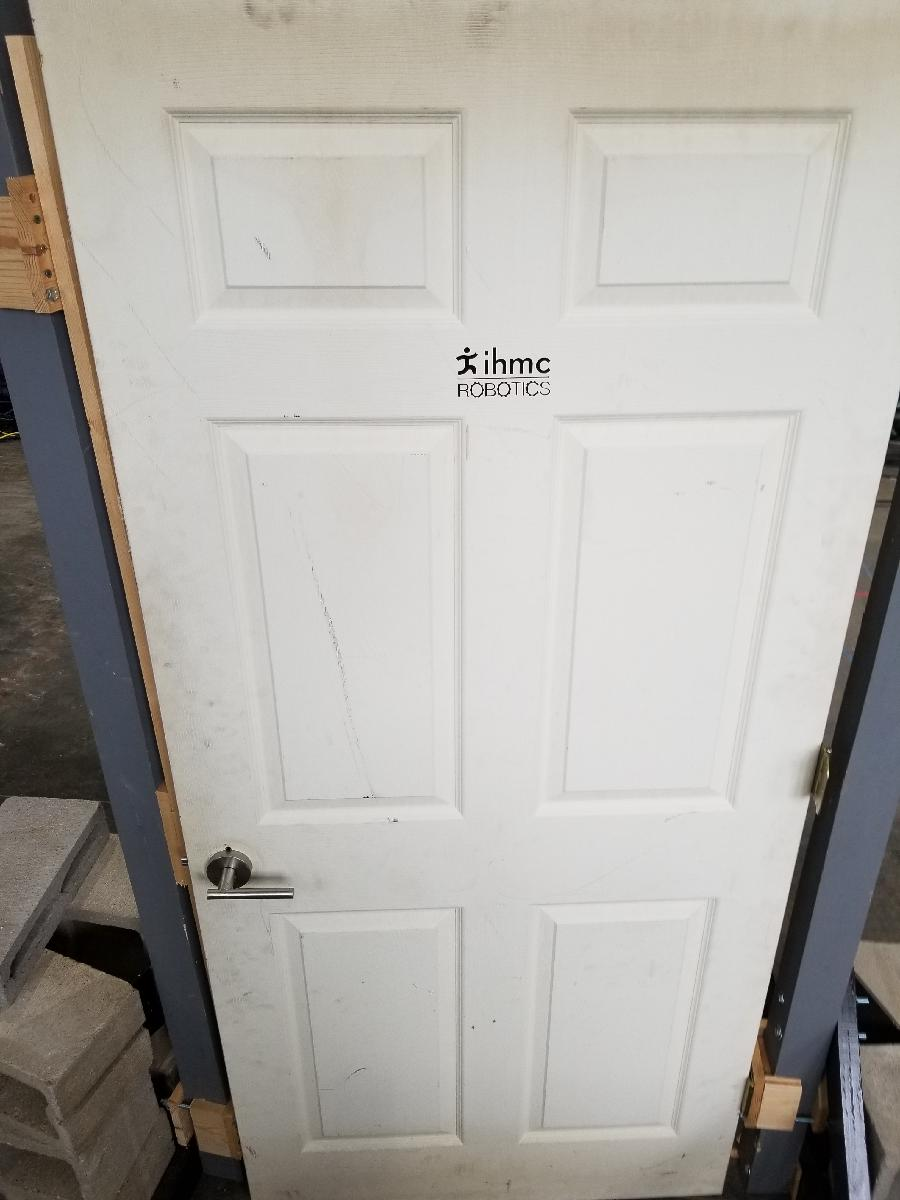doorHandle: (202, 844, 302, 909)
